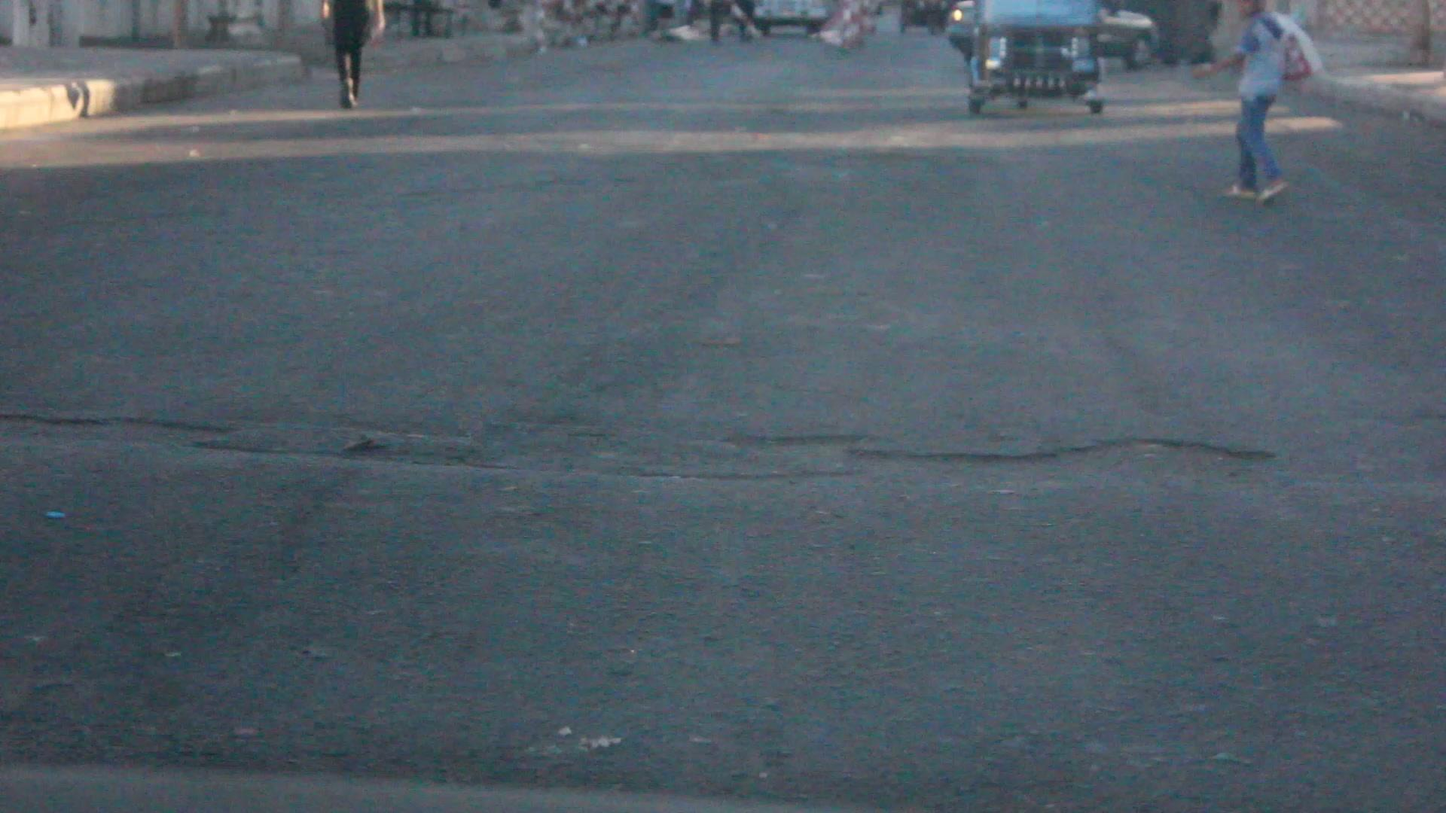Pothole: (740, 416, 1312, 510), (8, 399, 497, 478)
